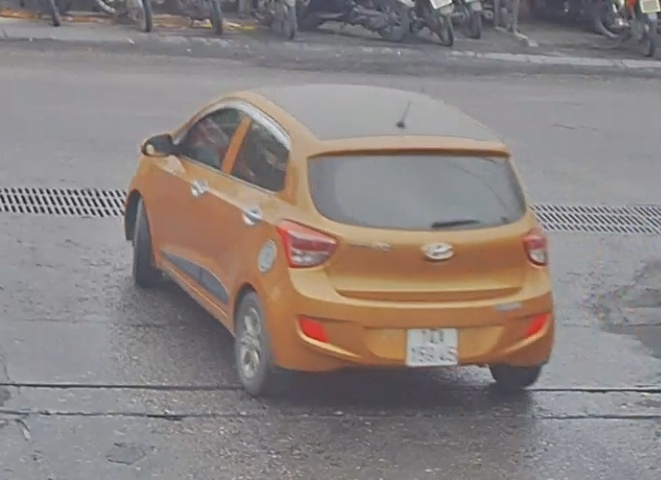vehicle plate: (402, 321, 463, 372)
